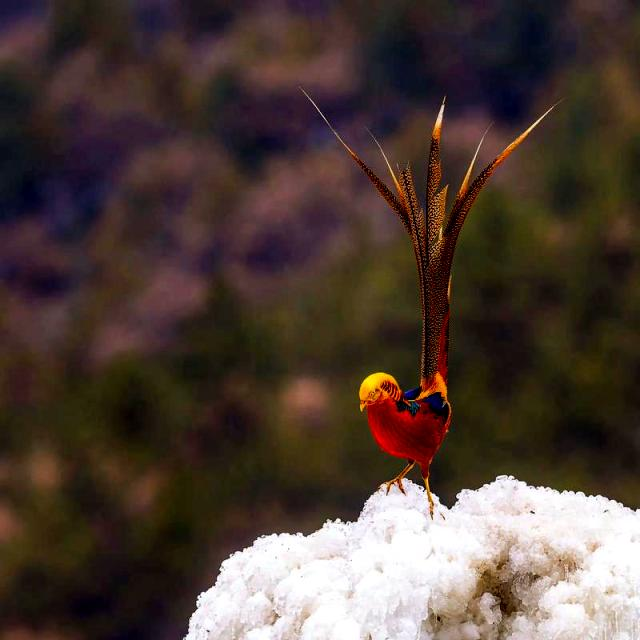Chrysolophus pictus feather: (299, 85, 557, 394)
